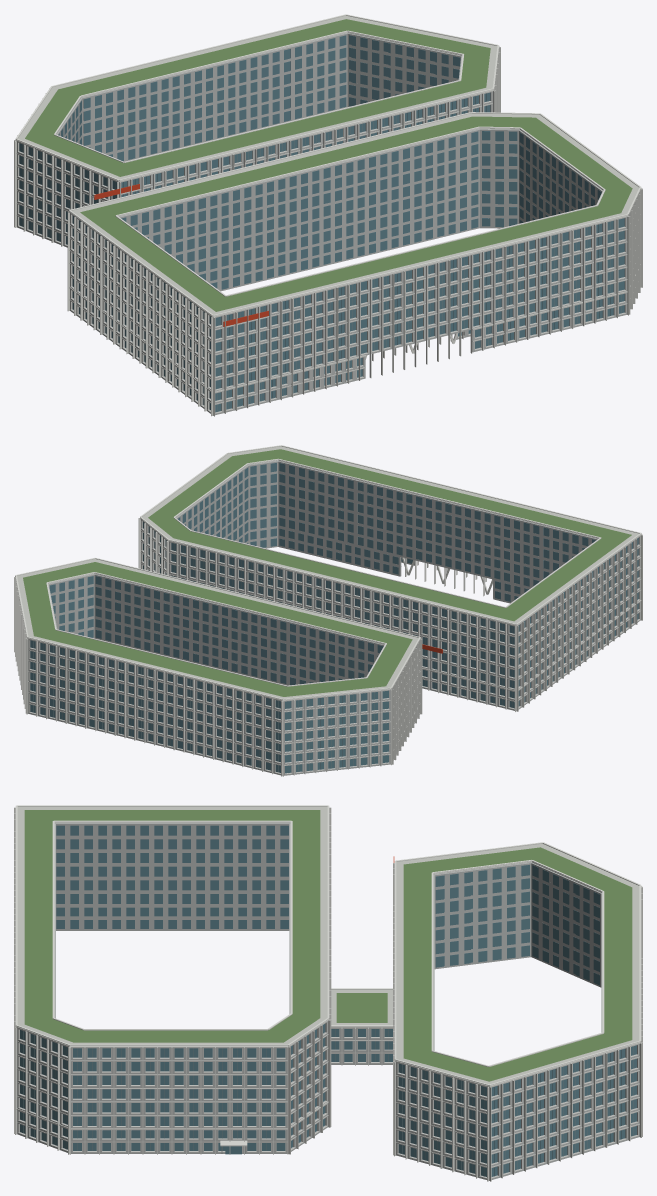
The model's file is energy.glb.
3 views of the same model, one above another, from view 1: azimuth 30°, elevation 25°; view 2: azimuth 150°, elevation 25°; view 3: azimuth 270°, elevation 25° (orthographic). The views are drawn at different scales.
Visible parts, largest first — view 1: science_wall, glass, white_frame, plant, roof, metal; view 2: science_wall, glass, white_frame, plant, roof, metal; view 3: science_wall, glass, white_frame, plant, roof, metal.
Part boxes in pixels (x1,y1,x2,y2): science_wall: [17, 33, 639, 415]; glass: [19, 35, 624, 412]; white_frame: [14, 14, 642, 416]; plant: [25, 19, 632, 311]; roof: [18, 15, 639, 314]; metal: [22, 93, 621, 411]; science_wall: [19, 461, 640, 775]; glass: [30, 463, 638, 773]; white_frame: [14, 445, 642, 776]; plant: [23, 449, 631, 696]; roof: [17, 446, 638, 698]; metal: [33, 544, 512, 772]; science_wall: [17, 823, 639, 1179]; glass: [20, 825, 636, 1176]; white_frame: [14, 805, 642, 1181]; plant: [24, 810, 632, 1081]; roof: [17, 806, 639, 1085]; metal: [23, 1025, 633, 1176].
Size of the model in its own units: 189 by 36.11 by 188.
